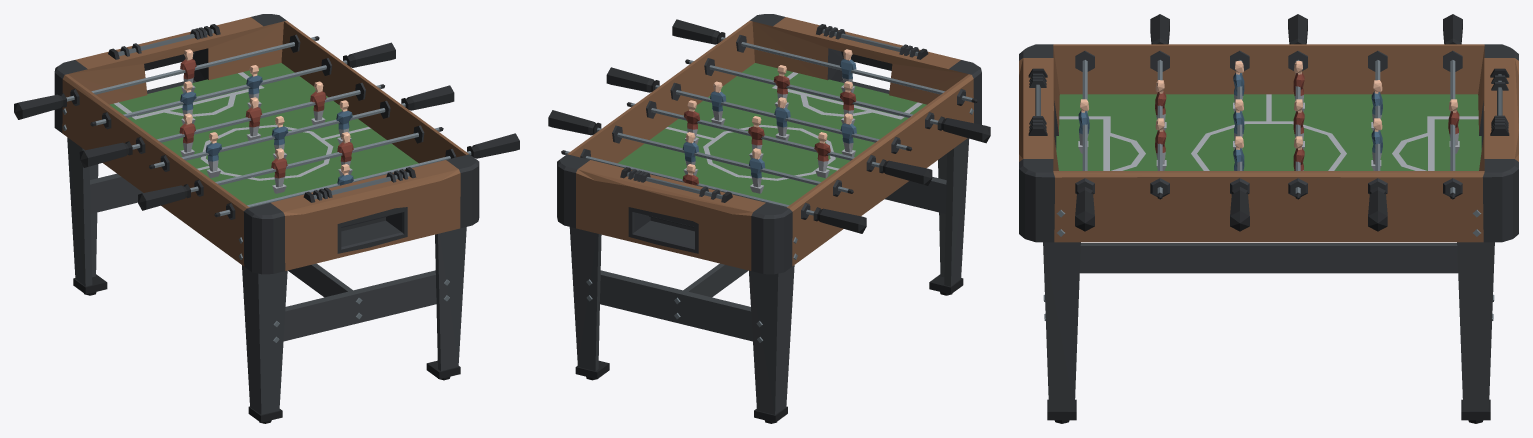
File: TableFootball.obj
3 renders of one model, left to right at view 1: azimuth 30°, elevation 25°; view 2: azimuth 150°, elevation 25°; view 3: azimuth 270°, elevation 25°, orthographic. The views are drawn at different scales.
Visible parts, largest first — view 1: TableFootball; view 2: TableFootball; view 3: TableFootball.
Part boxes in pixels (x1=…): TableFootball: x1=14, y1=14, x2=519, y2=423; TableFootball: x1=548, y1=14, x2=990, y2=423; TableFootball: x1=1019, y1=14, x2=1518, y2=423.
Bounding box in the file's own units: 1.43 × 0.89 × 1.5.
1 material, 1 textured.
